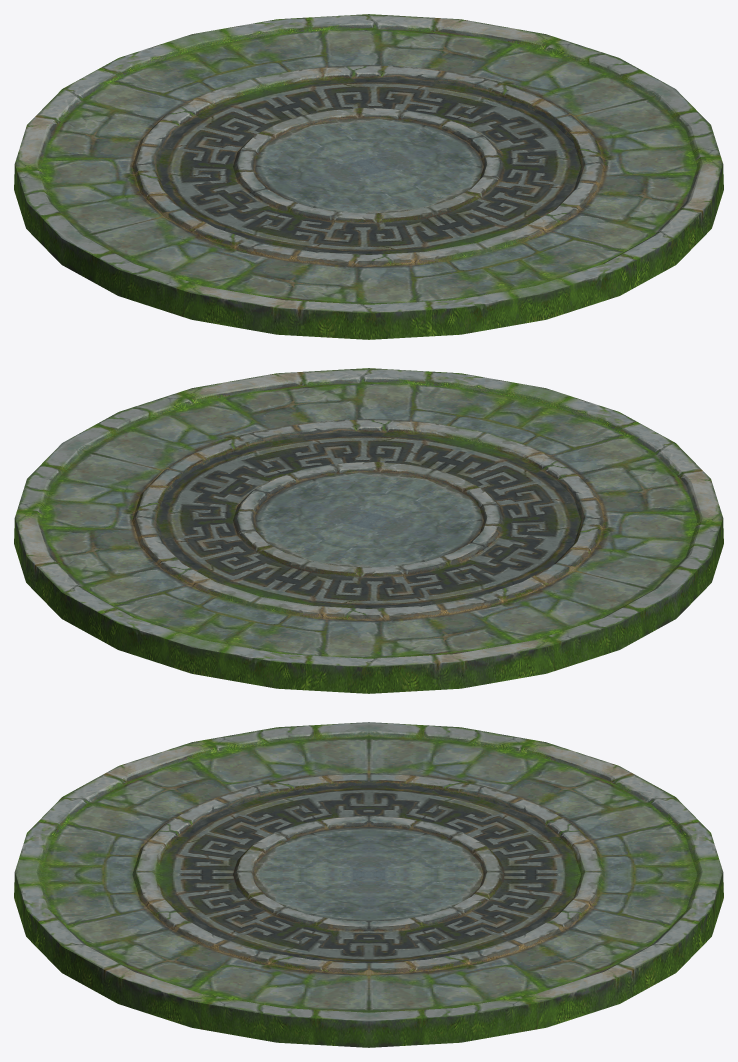
File: 3004_Item_taizi_1.FBX
3 renders of one model, top to bottom at view 1: azimuth 30°, elevation 25°; view 2: azimuth 150°, elevation 25°; view 3: azimuth 270°, elevation 25°, orthographic.
Visible parts, largest first — view 1: 3004_Item_taizi_1; view 2: 3004_Item_taizi_1; view 3: 3004_Item_taizi_1.
Boxes of the visible parts, box(x1,y1,x2,y2) form: 3004_Item_taizi_1: box(14, 14, 723, 339); 3004_Item_taizi_1: box(14, 368, 723, 693); 3004_Item_taizi_1: box(14, 722, 723, 1047).
Size of the model in its own units: 2609 by 106 by 2609.
